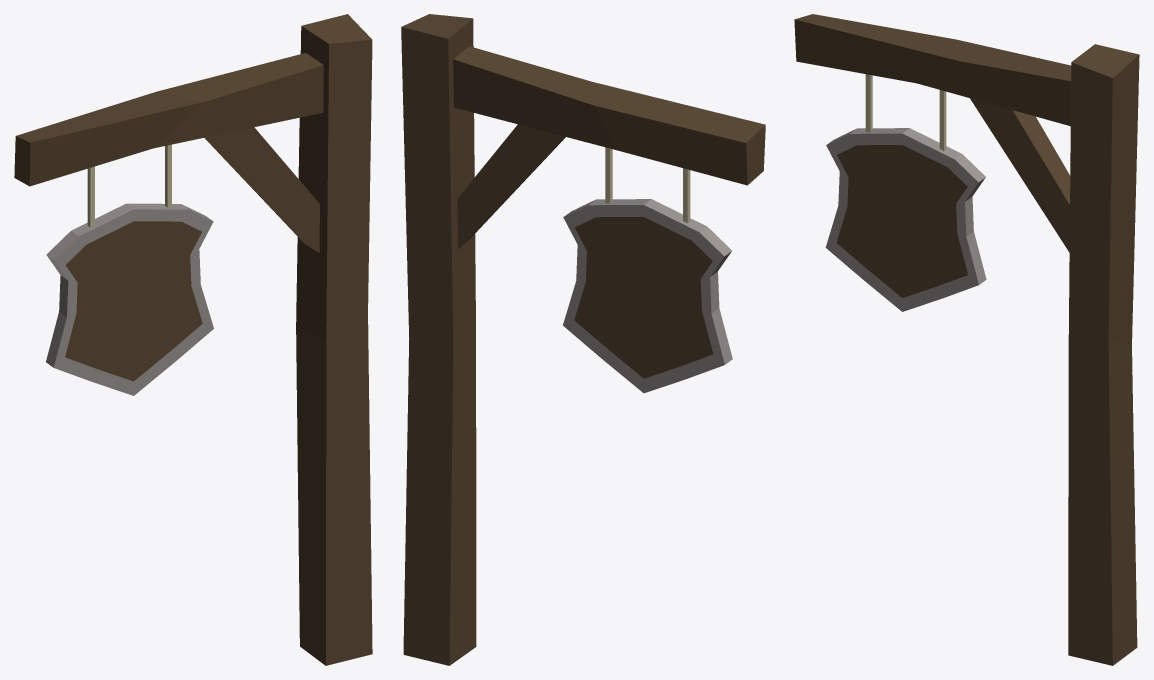
The model's file is enchantedforest_sign_1.fbx.
3 renders of one model, left to right at view 1: azimuth 30°, elevation 25°; view 2: azimuth 150°, elevation 25°; view 3: azimuth 330°, elevation 25°, orthographic. The views are drawn at different scales.
Parts seen in each view (by area): view 1: Cube.003, Cylinder.005; view 2: Cube.003, Cylinder.005; view 3: Cube.003, Cylinder.005.
Part boxes in pixels (x1=…): Cube.003: x1=14, y1=14, x2=372, y2=665; Cylinder.005: x1=46, y1=144, x2=213, y2=395; Cube.003: x1=401, y1=14, x2=765, y2=665; Cylinder.005: x1=563, y1=147, x2=732, y2=393; Cube.003: x1=794, y1=14, x2=1139, y2=665; Cylinder.005: x1=825, y1=74, x2=986, y2=311.
Size of the model in its own units: 1.49 by 2.61 by 0.2008.
